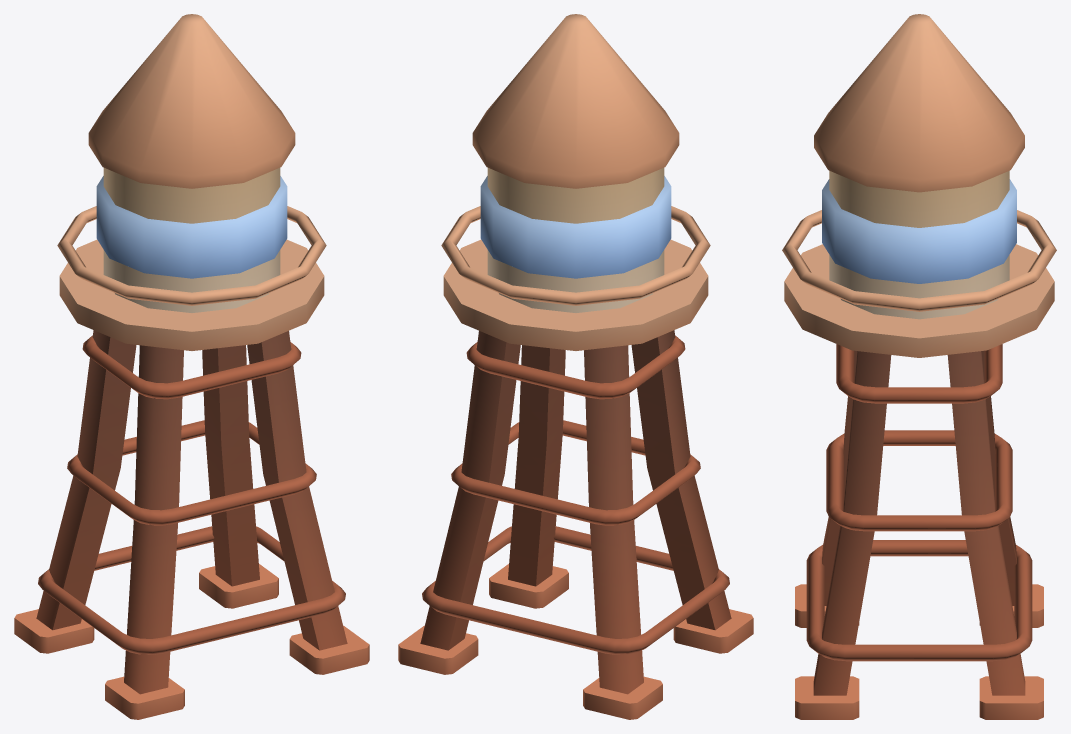
The model's file is water-tower.glb.
3 renders of one model, left to right at view 1: azimuth 30°, elevation 25°; view 2: azimuth 150°, elevation 25°; view 3: azimuth 270°, elevation 25°, orthographic. The views are drawn at different scales.
Parts seen in each view (by area): view 1: water-tower; view 2: water-tower; view 3: water-tower.
Boxes of the visible parts, x1,y1,x2,y2 form: water-tower: (14,14,369,719); water-tower: (398,14,753,719); water-tower: (782,14,1056,719).
Size of the model in its own units: 0.8522 by 2.14 by 0.8318.
1 material, 1 textured.
